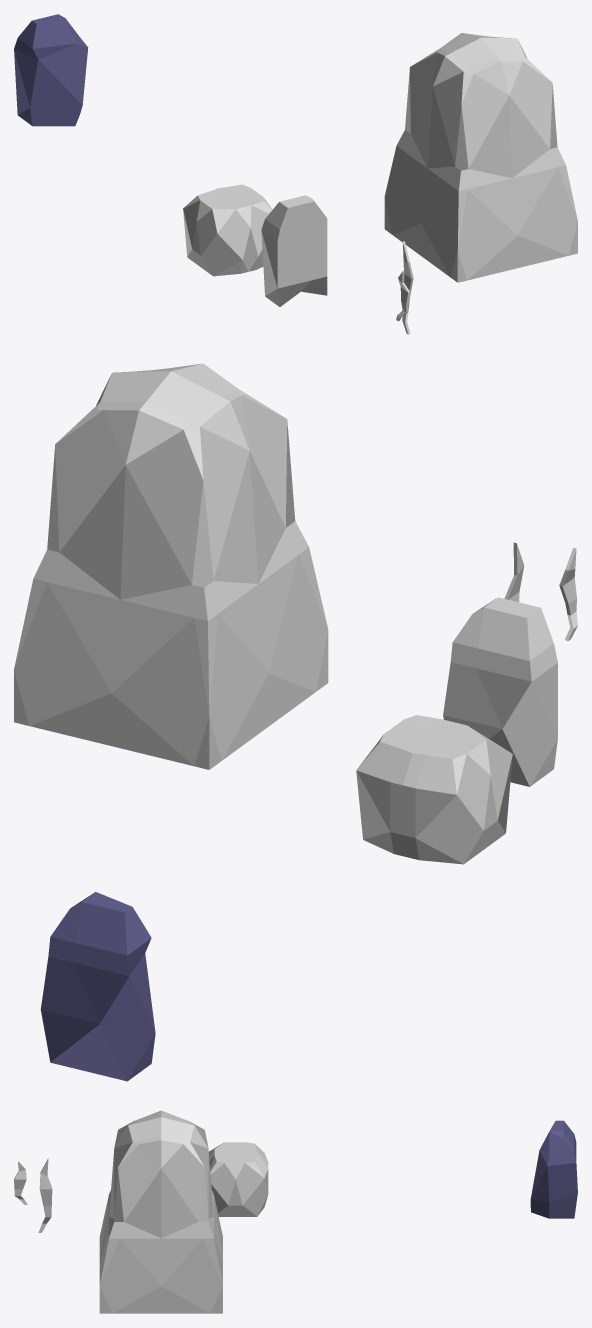
Rendered from Rocks4.fbx.
3 views of the same model, one above another, from view 1: azimuth 30°, elevation 25°; view 2: azimuth 150°, elevation 25°; view 3: azimuth 270°, elevation 25° (orthographic). The views are drawn at different scales.
Parts seen in each view (by area): view 1: Big Rock.001, Long S Rock.001, Little Rock 1, Long S Rock 1, Kelp 2.001; view 2: Big Rock.001, Little Rock 1, Long S Rock.001, Long S Rock 1, Kelp 1.001; view 3: Big Rock.001, Little Rock 1, Long S Rock.001, Kelp 2.001, Kelp 1.001.
Part boxes in pixels (bbox=[...]): Big Rock.001: bbox=[384, 33, 577, 282]; Long S Rock.001: bbox=[14, 14, 88, 126]; Little Rock 1: bbox=[183, 184, 272, 276]; Long S Rock 1: bbox=[261, 195, 327, 306]; Kelp 2.001: bbox=[402, 241, 413, 334]; Big Rock.001: bbox=[14, 363, 328, 769]; Little Rock 1: bbox=[356, 715, 512, 864]; Long S Rock.001: bbox=[40, 892, 155, 1081]; Long S Rock 1: bbox=[443, 597, 557, 786]; Kelp 1.001: bbox=[559, 547, 577, 640]; Big Rock.001: bbox=[99, 1110, 222, 1313]; Little Rock 1: bbox=[209, 1142, 268, 1216]; Long S Rock.001: bbox=[530, 1120, 577, 1218]; Kelp 2.001: bbox=[38, 1159, 52, 1232]; Kelp 1.001: bbox=[14, 1161, 27, 1204].
Size of the model in its own units: 1480 by 980 by 2856.
